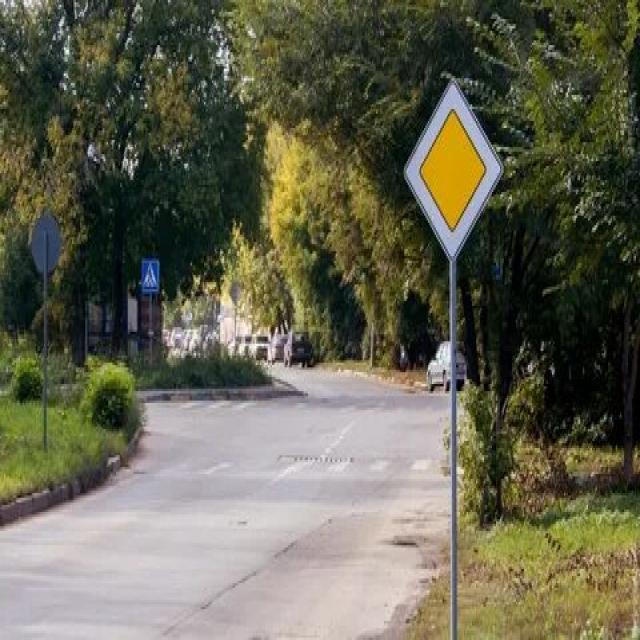signs: (402, 74, 504, 264)
